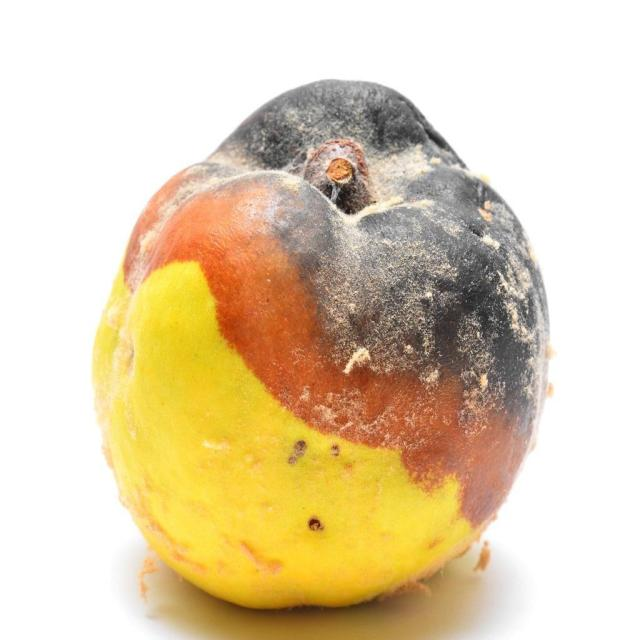organic: (89, 79, 552, 613)
